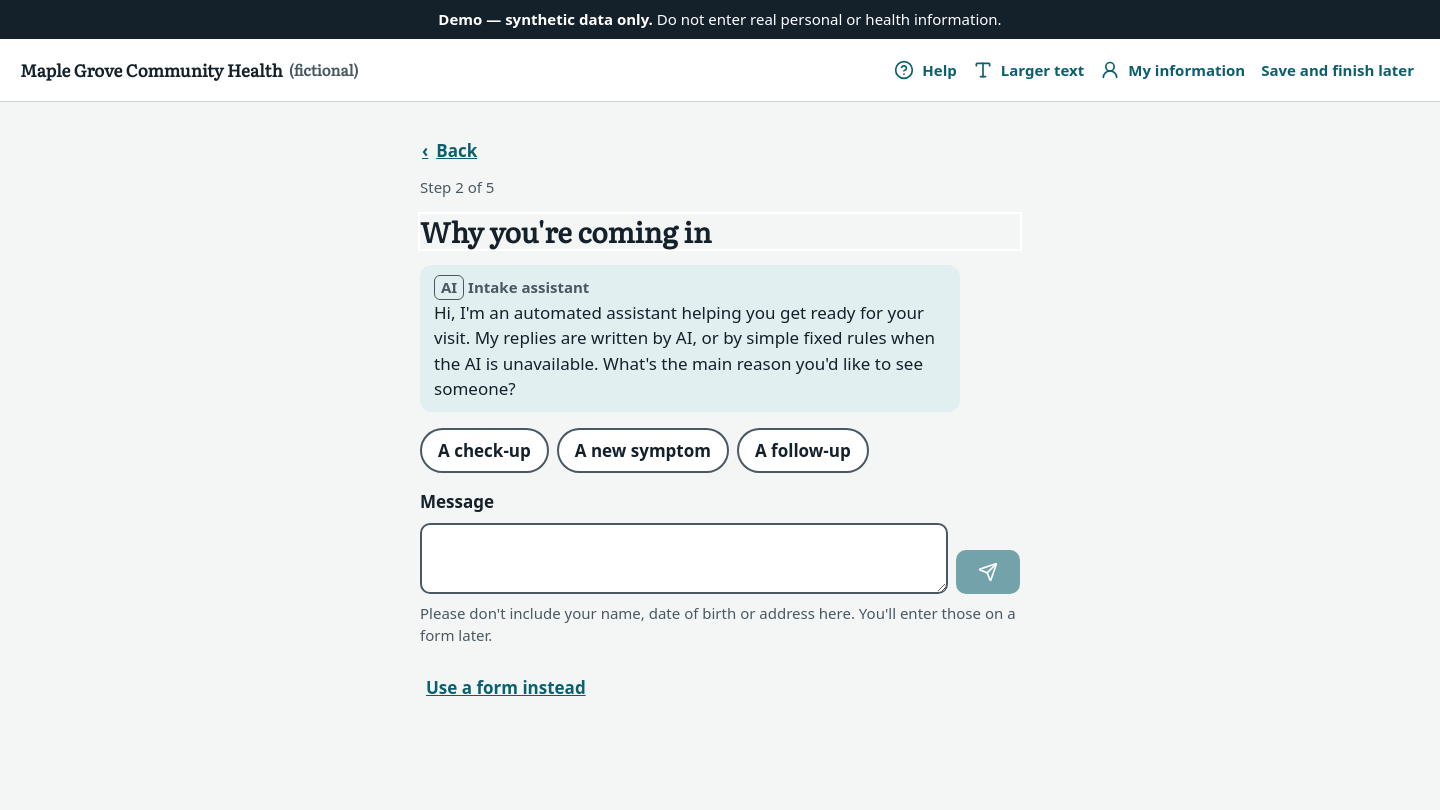
Test: distress shows the supportive card with crisis line from the server
Type "I can't go on" into the text box labelled "Message".
click(684, 558); type("I can't go on")  # box [420,522,948,594]
Then press Enter
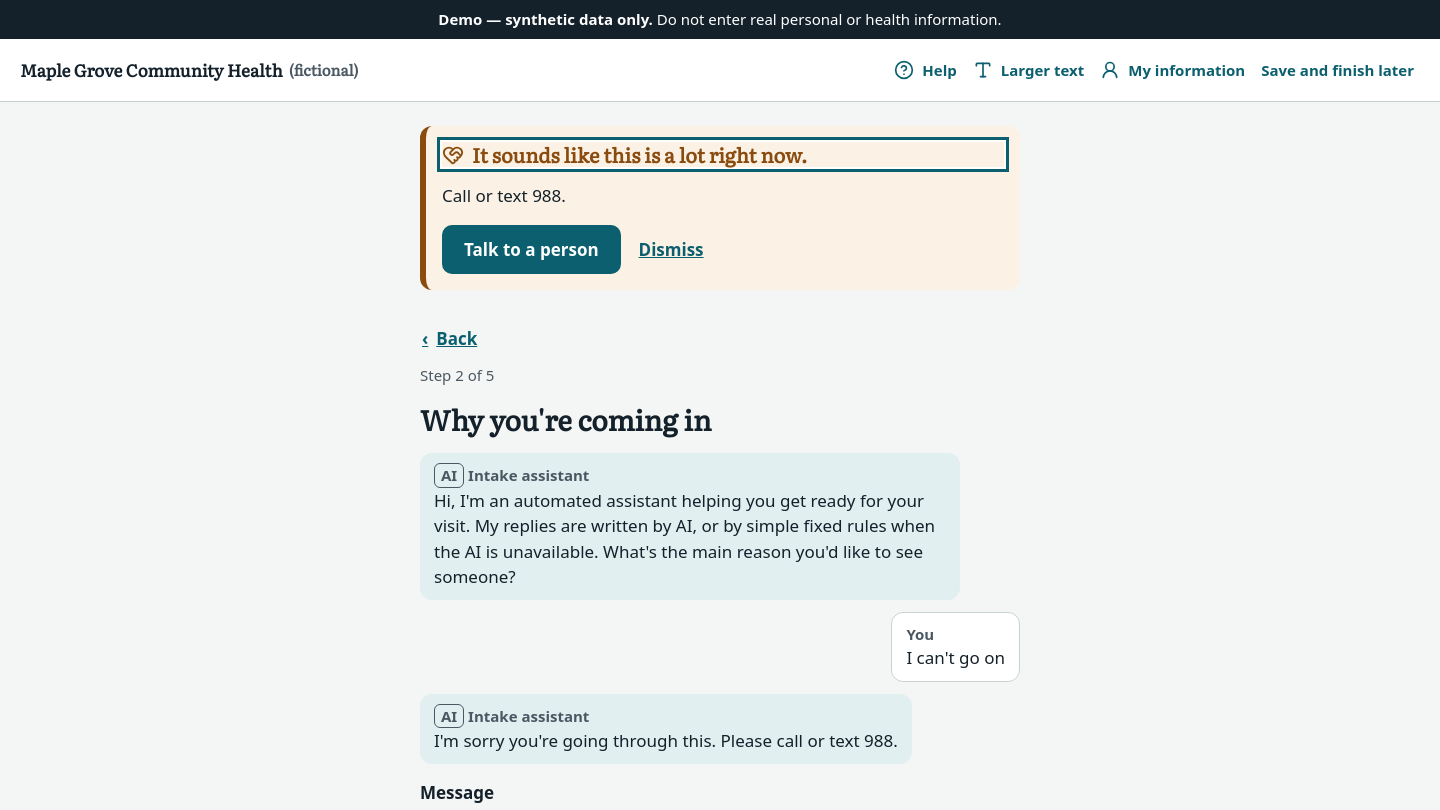
Result: the message "a lot right now" shows "988" at [442,184,566,207]
Click the button "Talk to a person".
click(531, 249)  # box [442,224,621,274]
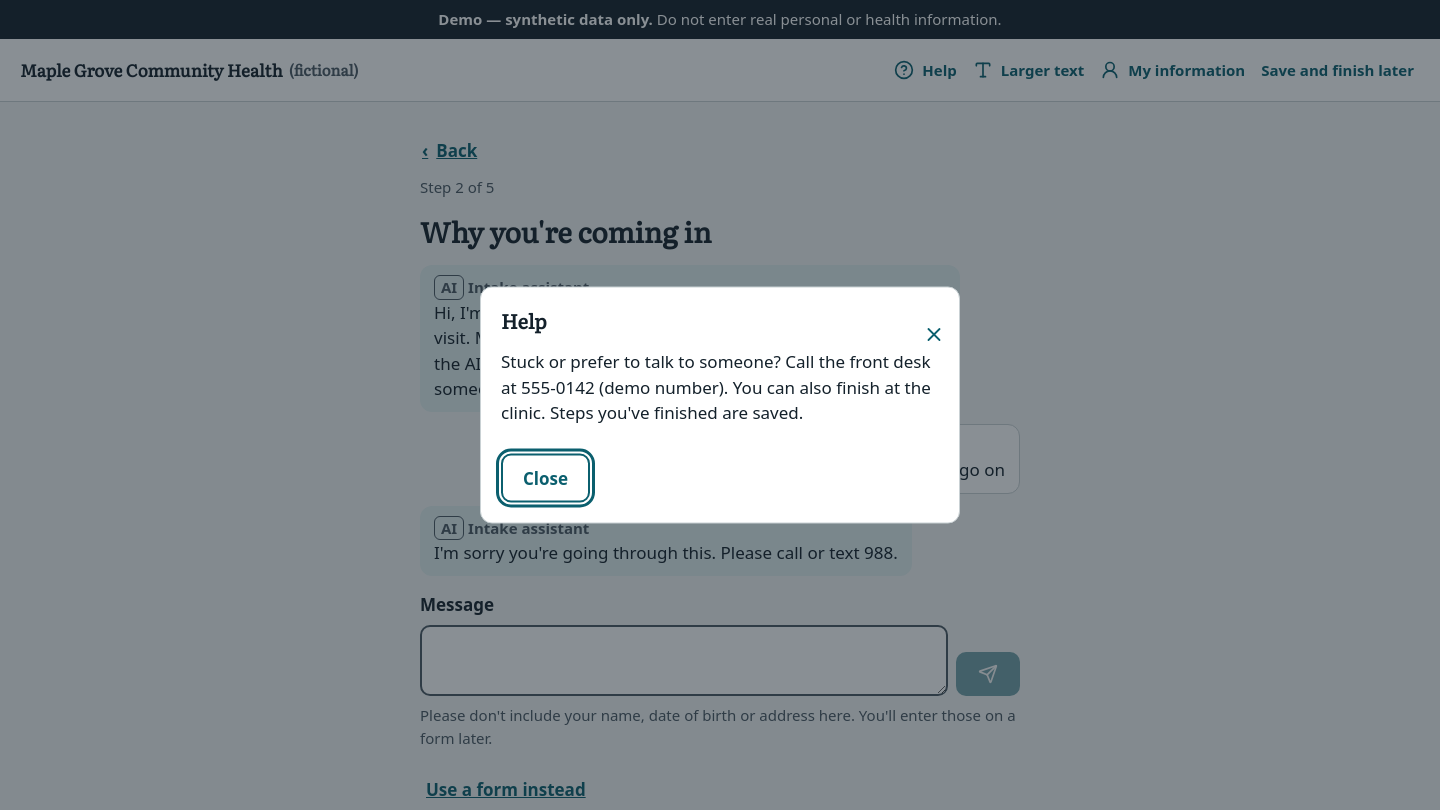
Result: the dialog "Help" shows "555-0142" at [501,350,931,424]
